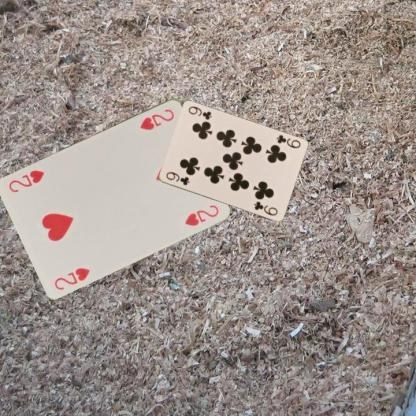2h: (52, 265, 91, 291), (137, 106, 176, 131)
9c: (273, 132, 302, 150), (163, 169, 191, 187)
